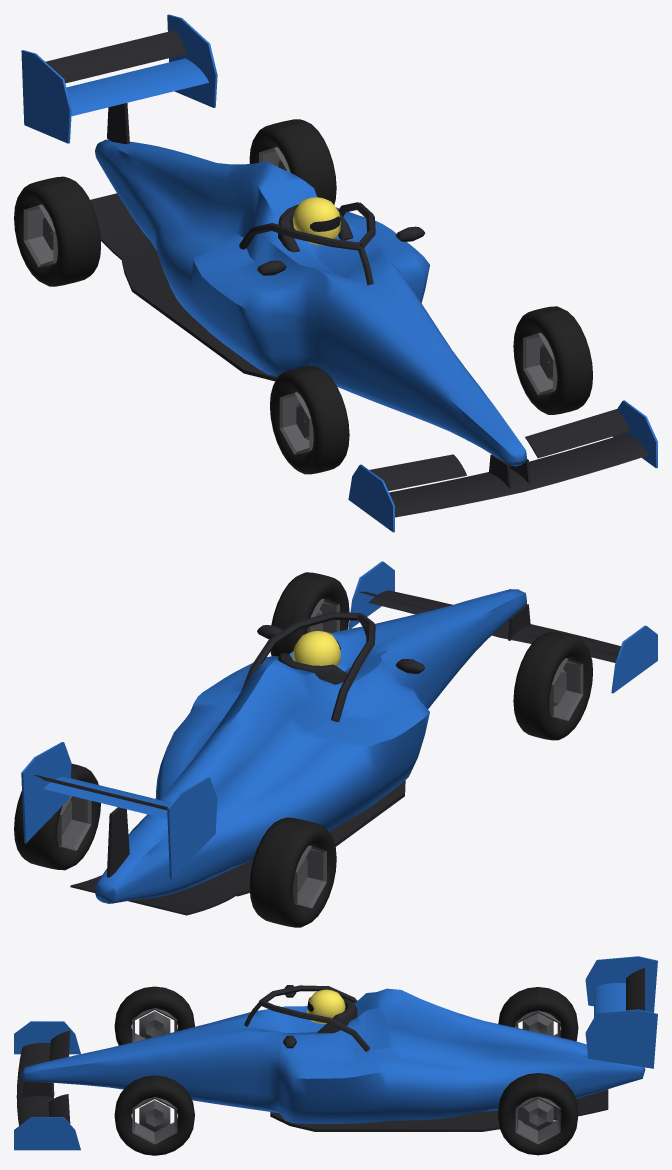
The picture shows the model from 3 angles, top to bottom: view 1: azimuth 30°, elevation 25°; view 2: azimuth 150°, elevation 25°; view 3: azimuth 270°, elevation 25°; orthographic projection. The views are drawn at different scales.
Visible parts, largest first — view 1: body, carbon, tyre_RR, tyre_FR, tyre_FL, tyre_RL, rim_RR, rim_FR, rim_FL, helmet; view 2: body, carbon, tyre_RR, tyre_FR, tyre_RL, tyre_FL, rim_FR, rim_RR, rim_RL, helmet, rim_FL; view 3: body, carbon, tyre_RL, tyre_FL, tyre_FR, tyre_RR, rim_RL, rim_FL, rim_FR, helmet, rim_RR.
Boxes of the visible parts, x1,y1,x2,y2 form: body: [21, 14, 657, 532]; carbon: [45, 30, 648, 517]; tyre_RR: [14, 176, 100, 286]; tyre_FR: [270, 366, 349, 474]; tyre_FL: [513, 306, 592, 414]; tyre_RL: [249, 119, 336, 204]; rim_RR: [23, 204, 57, 267]; rim_FR: [279, 392, 313, 454]; rim_FL: [523, 332, 557, 395]; helmet: [292, 197, 340, 245]; body: [21, 561, 657, 903]; carbon: [33, 590, 620, 915]; tyre_RR: [249, 817, 336, 927]; tyre_FR: [513, 632, 592, 740]; tyre_RL: [14, 763, 100, 870]; tyre_FL: [270, 572, 349, 656]; rim_FR: [549, 658, 583, 720]; rim_RR: [292, 845, 326, 908]; rim_RL: [57, 795, 91, 850]; helmet: [292, 631, 340, 666]; rim_FL: [306, 598, 339, 633]; body: [14, 956, 657, 1150]; carbon: [16, 968, 644, 1131]; tyre_RL: [498, 1073, 578, 1155]; tyre_FL: [114, 1075, 194, 1155]; tyre_FR: [114, 986, 194, 1045]; tyre_RR: [498, 987, 578, 1041]; rim_RL: [515, 1096, 560, 1144]; rim_FL: [132, 1097, 177, 1144]; rim_FR: [132, 1008, 177, 1042]; helmet: [307, 989, 345, 1023]; rim_RR: [515, 1010, 560, 1037].
Size of the model in its own units: 1.71 by 0.985 by 4.62.
